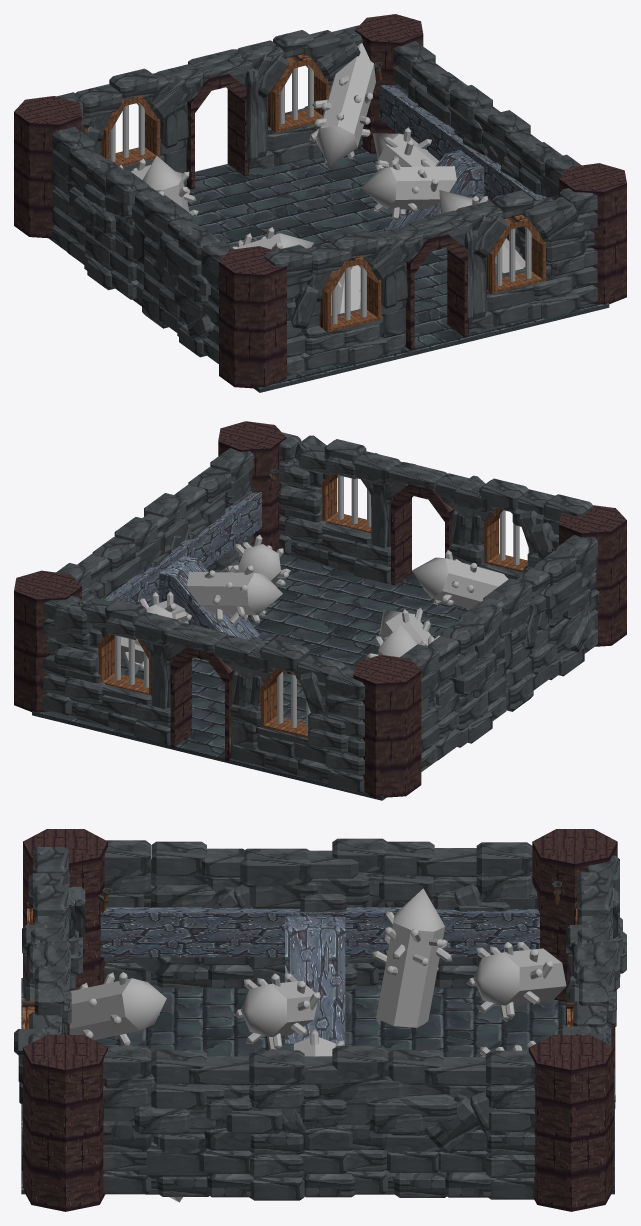
File: room_spike.fbx
3 views of the same model, one above another, from view 1: azimuth 30°, elevation 25°; view 2: azimuth 150°, elevation 25°; view 3: azimuth 270°, elevation 25° (orthographic). The views are drawn at different scales.
Parts seen in each view (by area): view 1: pCube15; view 2: pCube15; view 3: pCube15.
Boxes of the visible parts, bbox=[...] form: pCube15: bbox=[14, 14, 626, 392]; pCube15: bbox=[14, 421, 626, 800]; pCube15: bbox=[14, 829, 626, 1211].
Bounding box in the file's own units: 0.2097 × 0.0745 × 0.2246.
10 materials, 8 textured.
